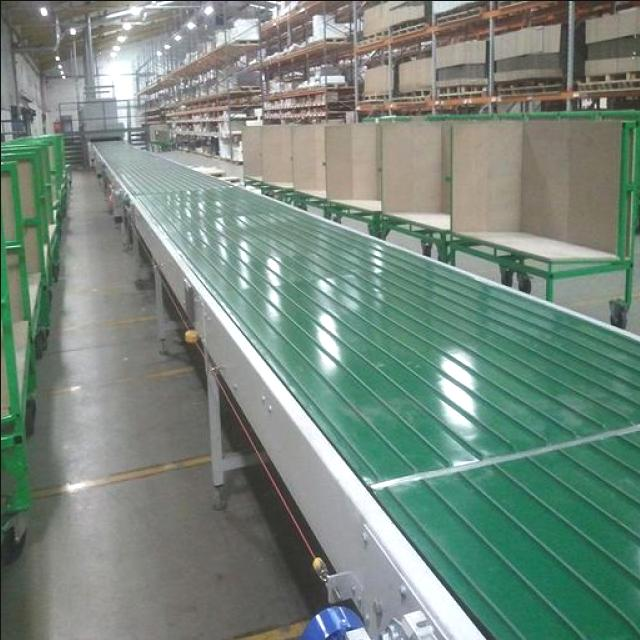conveyor: (89, 133, 640, 638)
